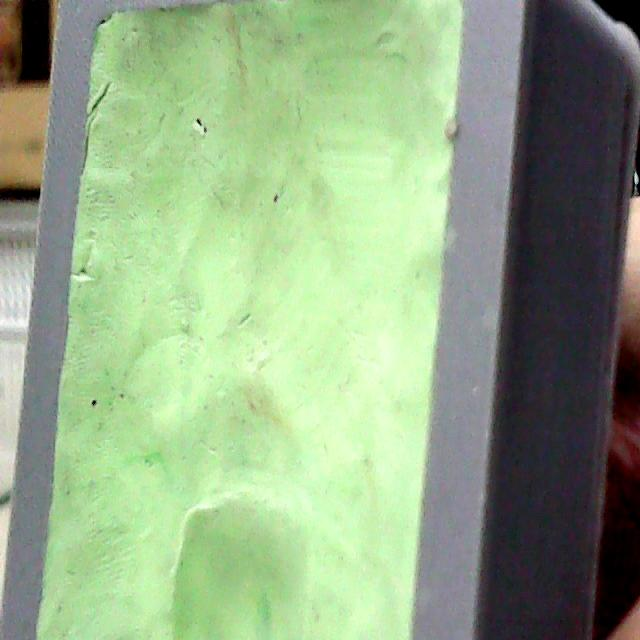block: (9, 1, 639, 638)
